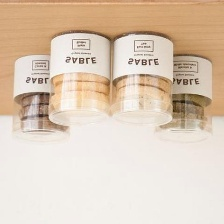plastic_box: (42, 27, 117, 131), (104, 27, 179, 130), (149, 51, 219, 148), (6, 51, 75, 147)
